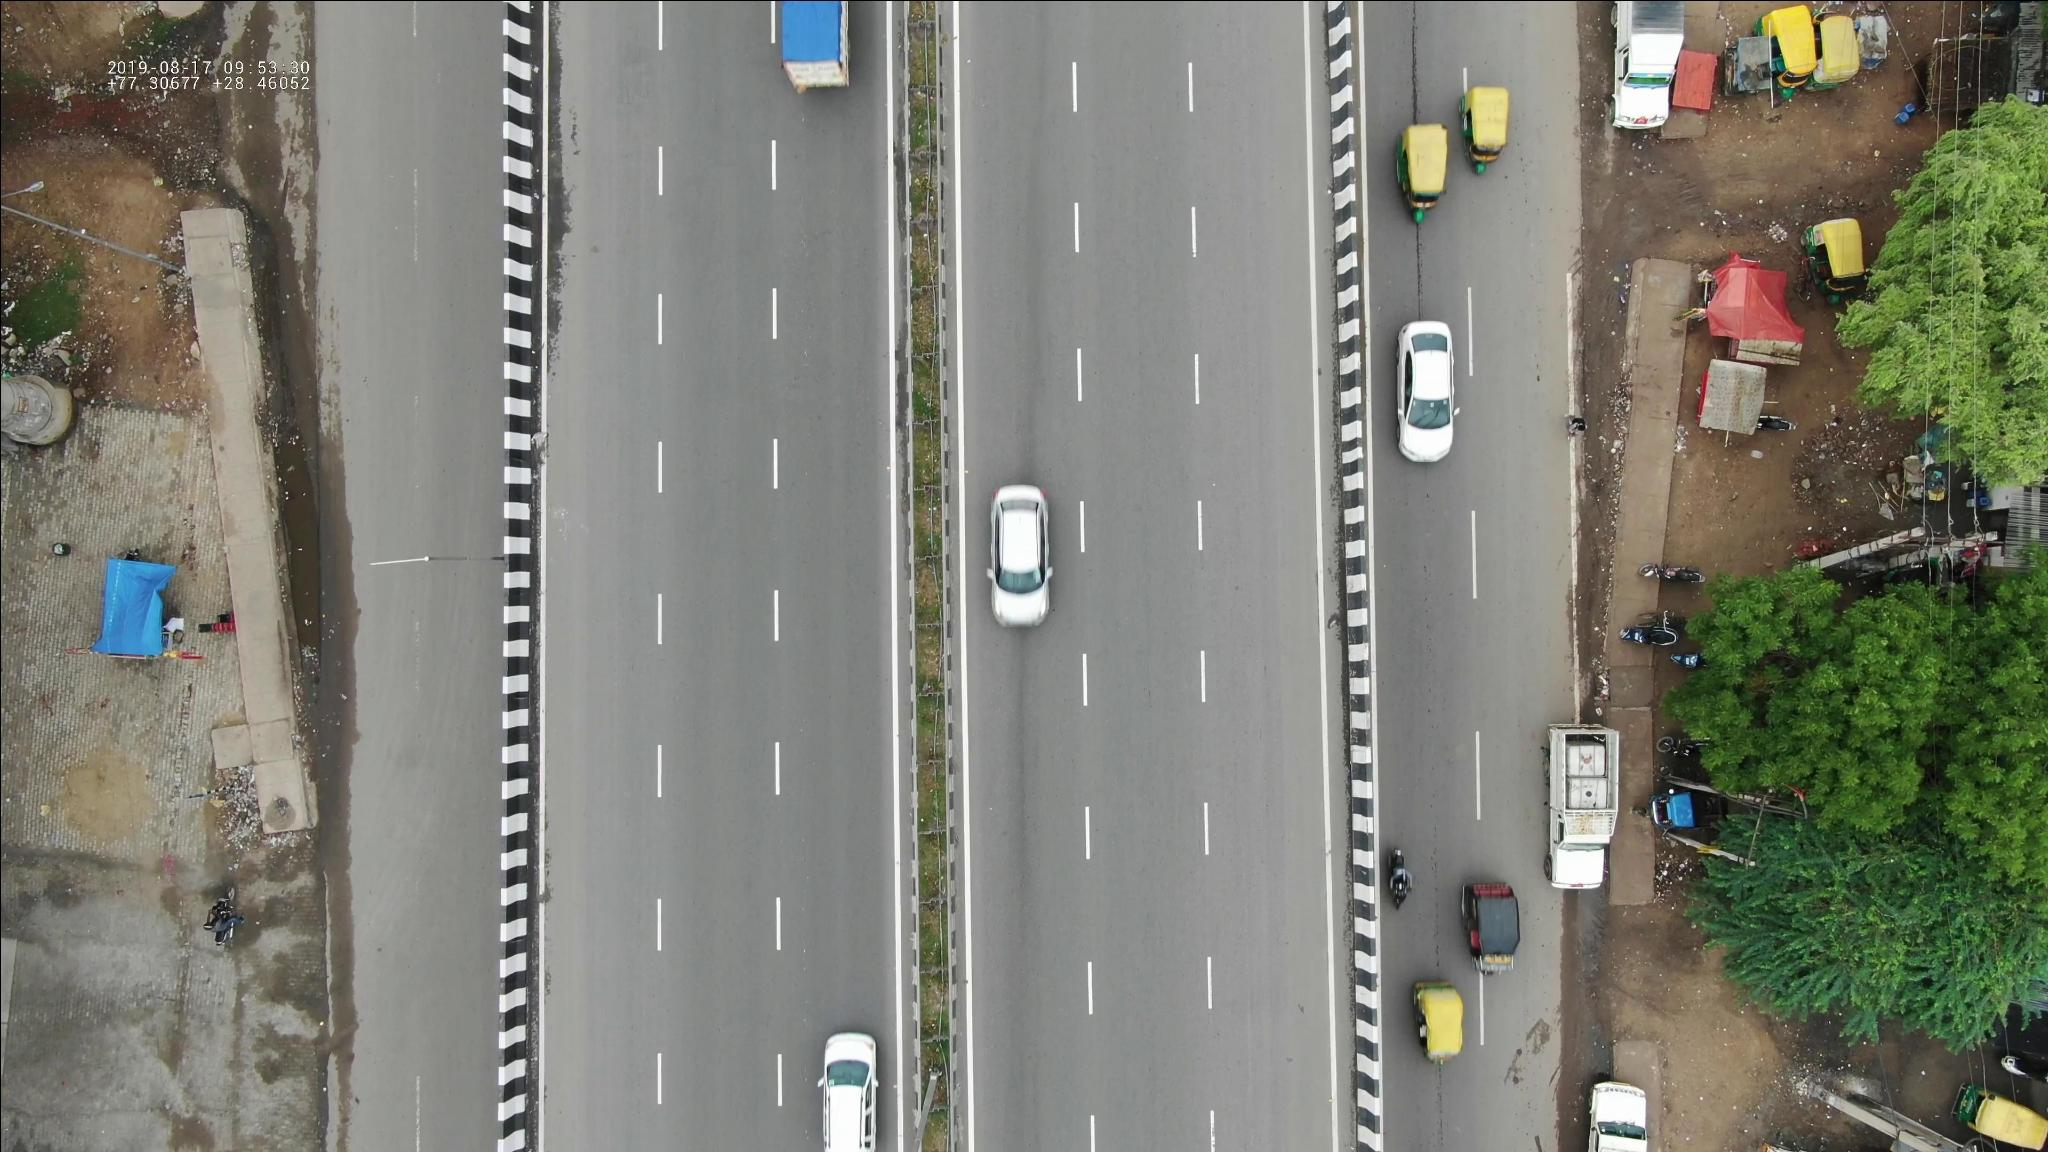Muddy_road: (1571, 447, 1627, 651), (1568, 269, 1630, 450)
Waterlogging: (271, 432, 345, 684)
